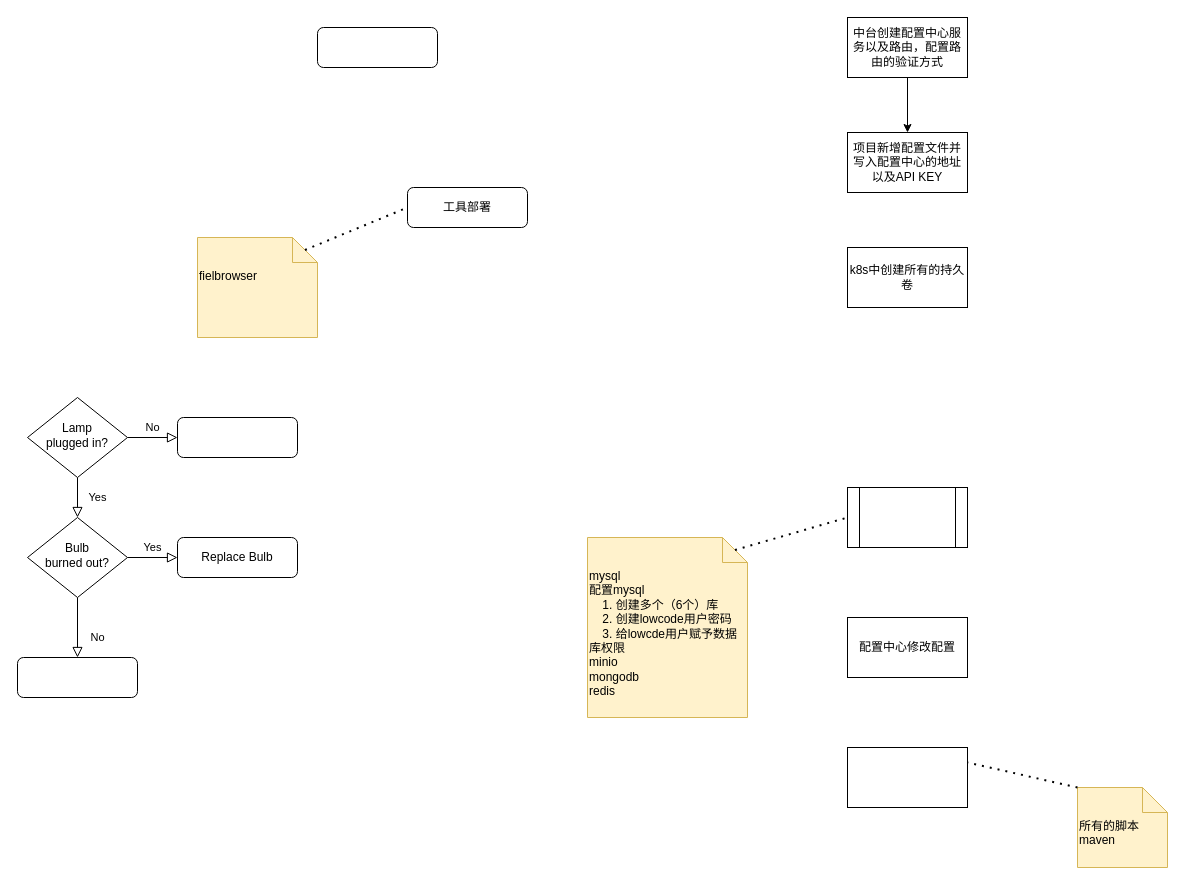
Some shapes in this 1185 by 885 pixel diagram are drawn without their labels. The shapes that lost their labels are listed below. From the top down, each one's box as (x1, y1, x2, y2) in pixels, then its label:
(316, 26, 438, 68): 基础设施部署
(176, 416, 298, 458): Plug in lamp
(846, 486, 968, 548): k8s中部署基础设施
(16, 656, 138, 698): Repair Lamp
(846, 746, 968, 808): pull-package持久卷放置必须的文件
